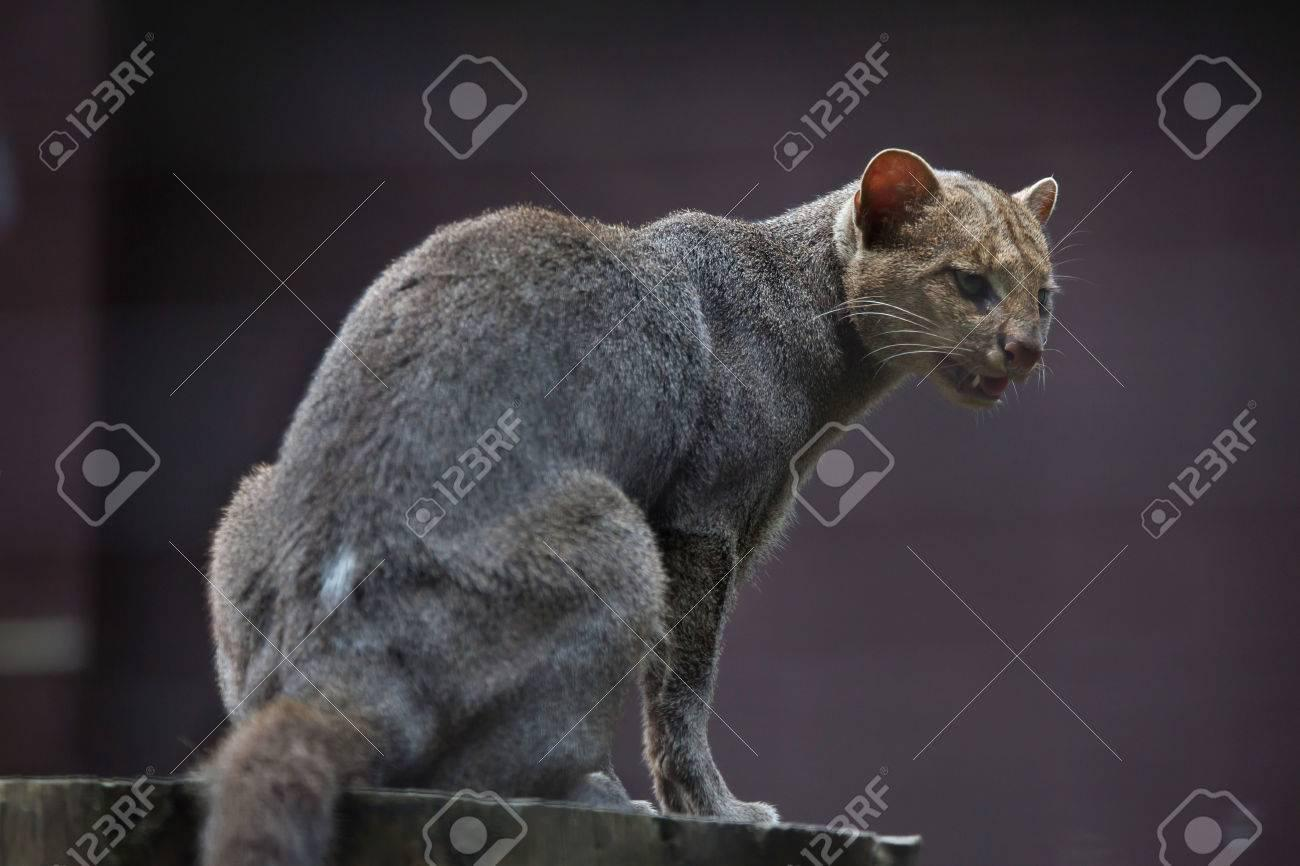Jaguarundi: (198, 145, 1073, 832)
